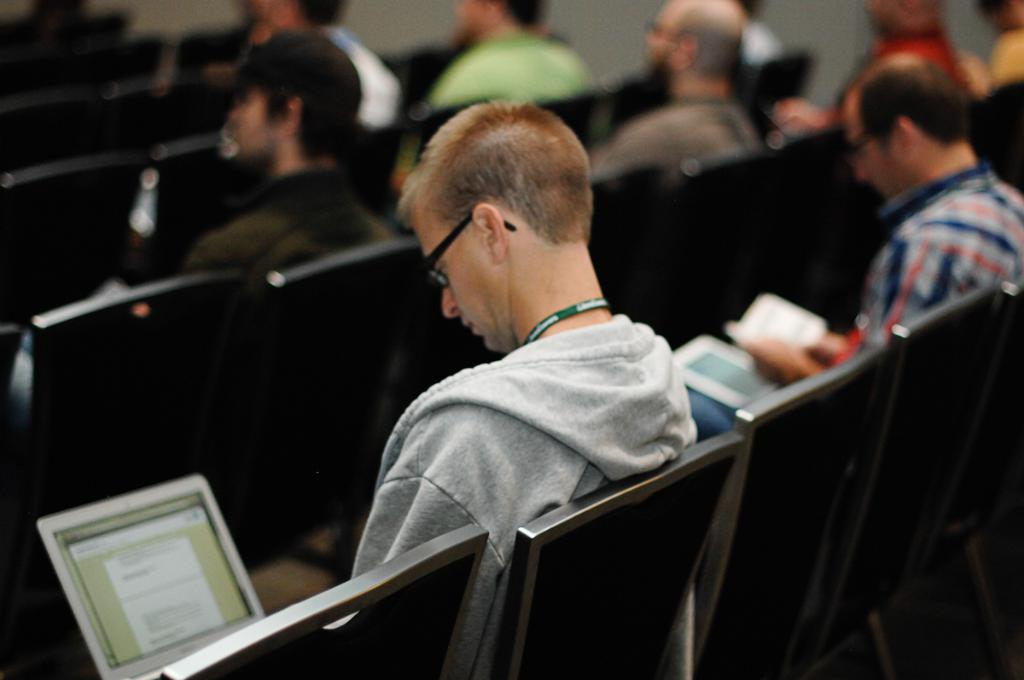Human-face: (414, 207, 499, 346), (835, 102, 900, 205), (224, 74, 280, 166), (638, 0, 681, 72)
